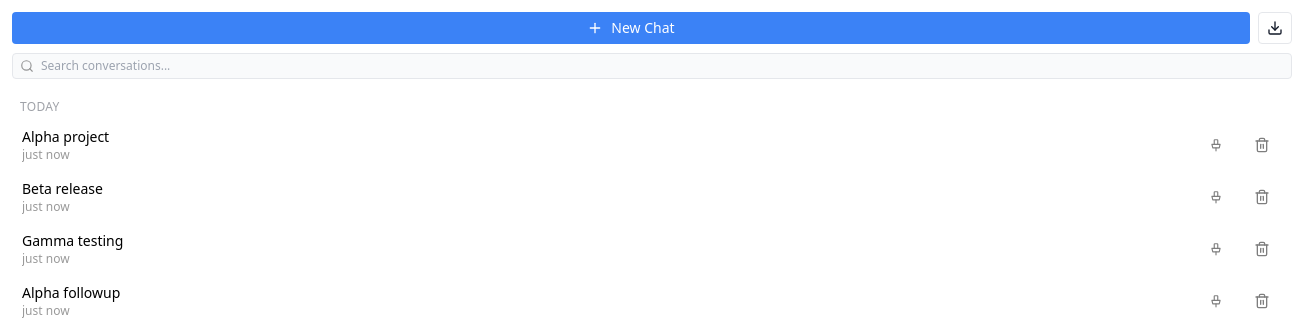
Search result count badge › shows correct count when search matches multiple conversations
This screenshot has width=1304, height=335.
Expected: the text "Alpha project" is shown, left=22, top=127, right=109, bottom=146
Type "Alpha" into the field with test id "conversation-search" at x=652, y=66, box left=12, top=53, right=1292, bottom=79
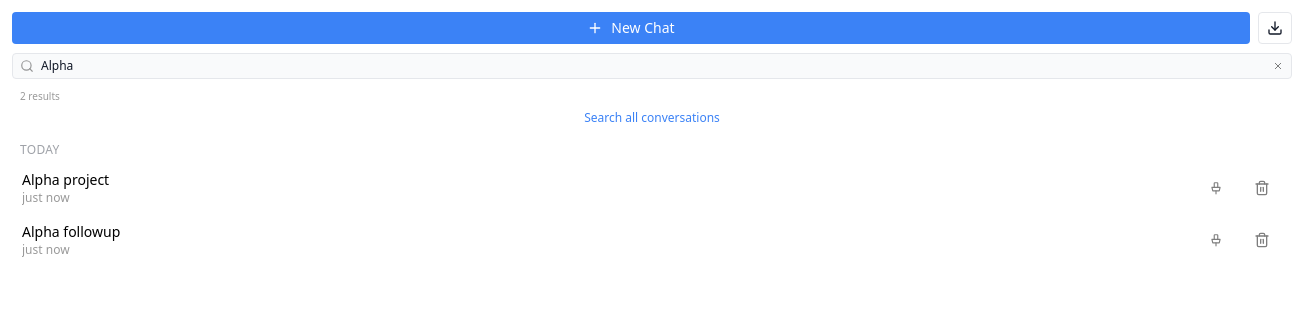
Result: the text with test id "search-result-count" reads "2 results" at left=20, top=89, right=60, bottom=103
